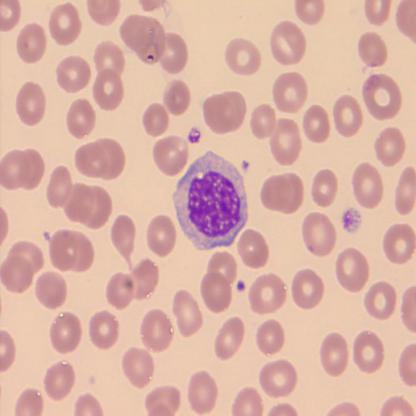Myelocyte: (176, 151, 249, 250)
